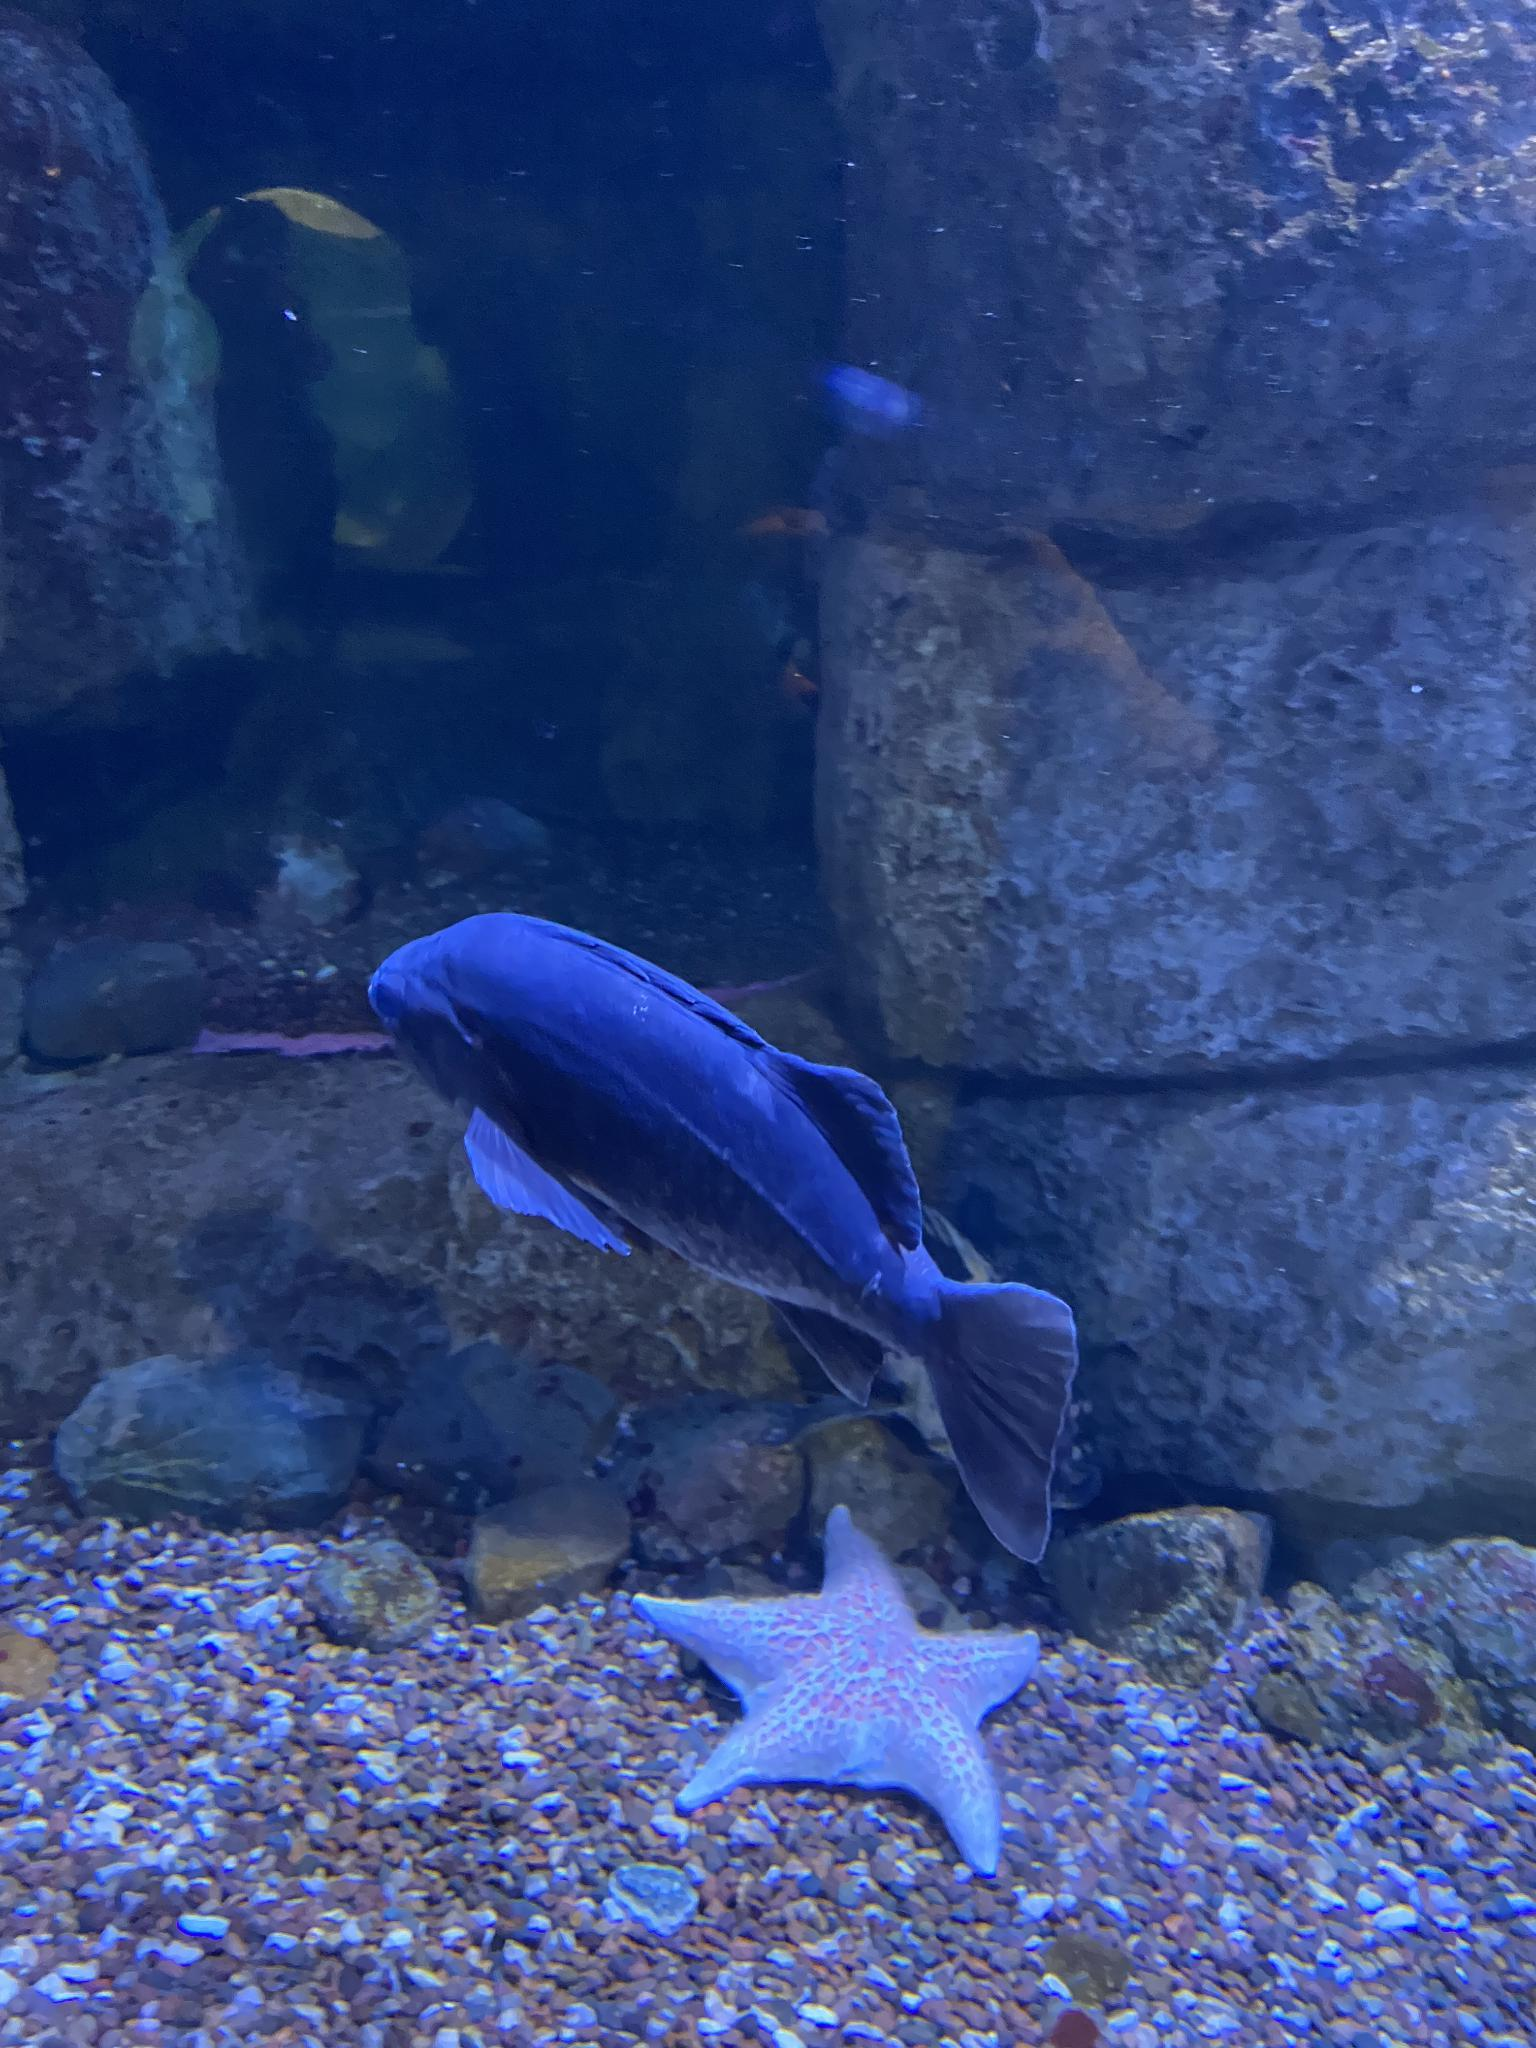fish: (369, 911, 1078, 1564)
starfish: (637, 1505, 1044, 1882)
